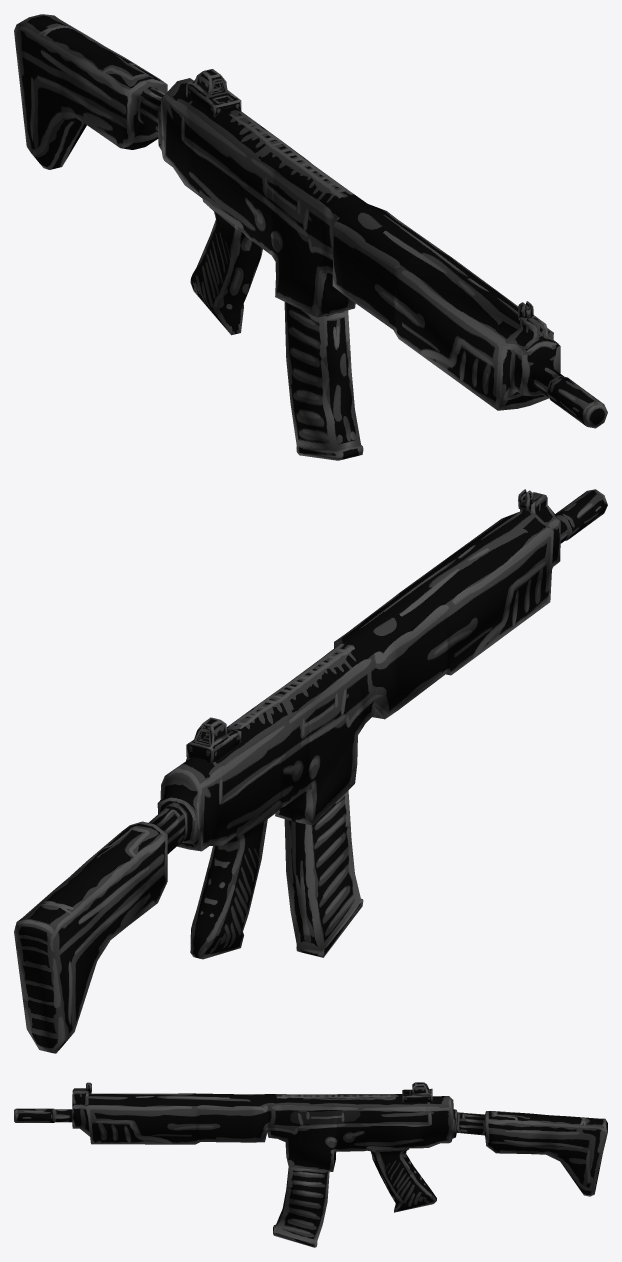
Rendered from prop_weapon_ak5c_mesh_v1.glb.
3 views of the same model, one above another, from view 1: azimuth 30°, elevation 25°; view 2: azimuth 150°, elevation 25°; view 3: azimuth 270°, elevation 25° (orthographic). The views are drawn at different scales.
Visible parts, largest first — view 1: AK5c_Lowpoly; view 2: AK5c_Lowpoly; view 3: AK5c_Lowpoly.
Part boxes in pixels (x1,y1,x2,y2): AK5c_Lowpoly: (14,14,607,460); AK5c_Lowpoly: (14,489,607,1053); AK5c_Lowpoly: (14,1082,607,1247).
Bounding box in the file's own units: 0.0824 × 0.4579 × 1.53.
Materials: 1 (1 with a texture image).
